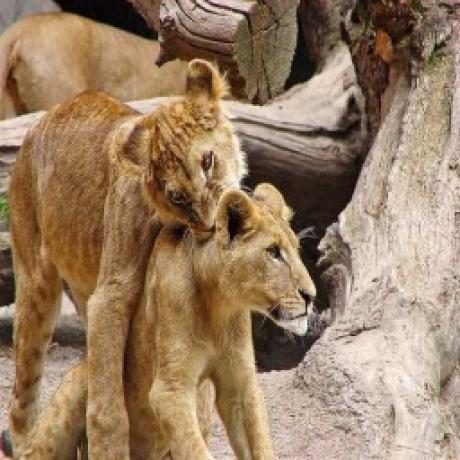Lion: (9, 59, 239, 460), (126, 183, 316, 460)
